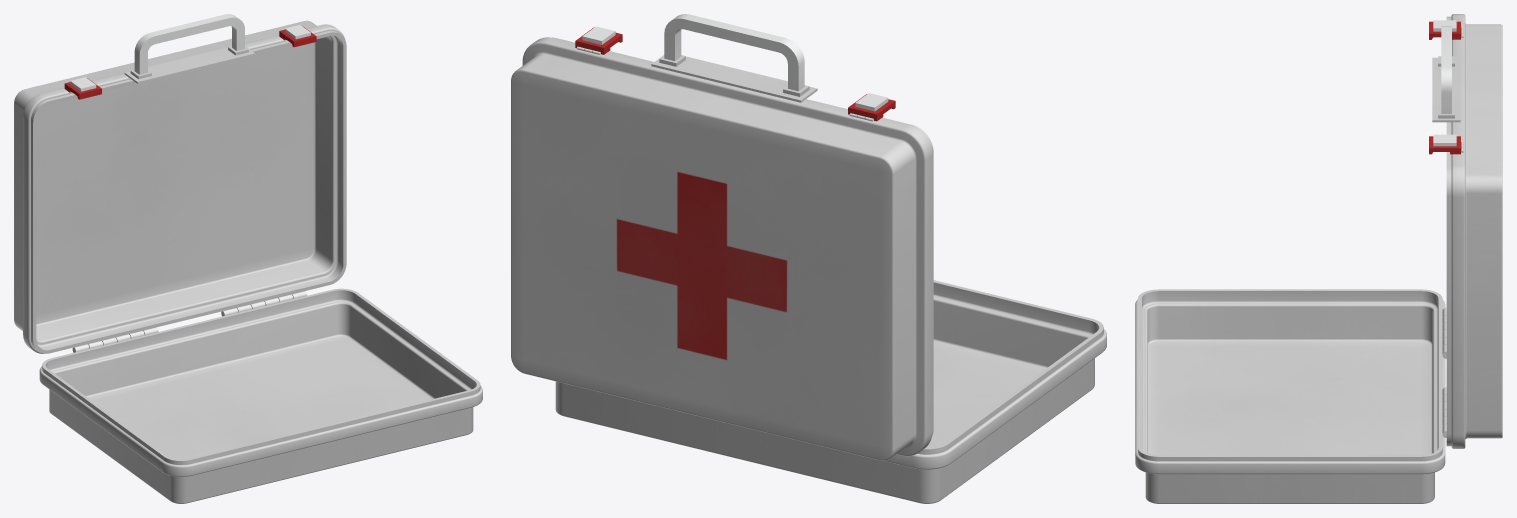
The model's file is medkit case.fbx.
3 views of the same model, side by side, from view 1: azimuth 30°, elevation 25°; view 2: azimuth 150°, elevation 25°; view 3: azimuth 270°, elevation 25° (orthographic). The views are drawn at different scales.
Visible parts, largest first — view 1: case top.002, case bottom.003, opener.006, opener.007, engsel.001, opener.004, opener.005; view 2: case top.002, case bottom.003, opener.006, opener.007, opener.004, opener.005; view 3: case bottom.003, case top.002, opener.007, opener.006, opener.004, opener.005, engsel.001.
Boxes of the visible parts, left/top/right/bottom form: case top.002: left=14, top=20, right=346, bottom=353; case bottom.003: left=39, top=288, right=482, bottom=503; opener.006: left=130, top=14, right=248, bottom=79; opener.007: left=124, top=46, right=255, bottom=83; engsel.001: left=72, top=291, right=307, bottom=352; opener.004: left=64, top=26, right=316, bottom=99; opener.005: left=70, top=25, right=310, bottom=91; case top.002: left=511, top=37, right=933, bottom=460; case bottom.003: left=555, top=280, right=1106, bottom=503; opener.006: left=659, top=14, right=809, bottom=96; opener.007: left=651, top=55, right=817, bottom=102; opener.004: left=575, top=27, right=895, bottom=121; opener.005: left=582, top=26, right=888, bottom=111; case bottom.003: left=1135, top=289, right=1445, bottom=503; case top.002: left=1446, top=14, right=1502, bottom=448; opener.007: left=1432, top=57, right=1460, bottom=122; opener.006: left=1438, top=26, right=1454, bottom=118; opener.004: left=1429, top=21, right=1460, bottom=154; opener.005: left=1433, top=20, right=1456, bottom=146; engsel.001: left=1442, top=307, right=1446, bottom=437.
Size of the model in its own units: 0.3168 by 0.3275 by 0.29.
Materials: 1 (1 with a texture image).
